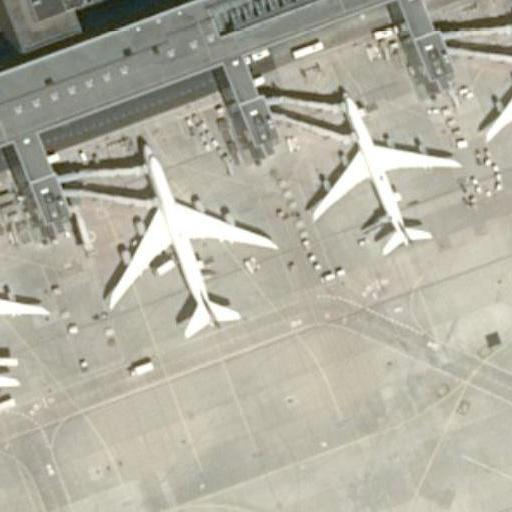Aircraft: (95, 135, 270, 345), (293, 85, 450, 258), (0, 223, 42, 413), (471, 9, 512, 194)
